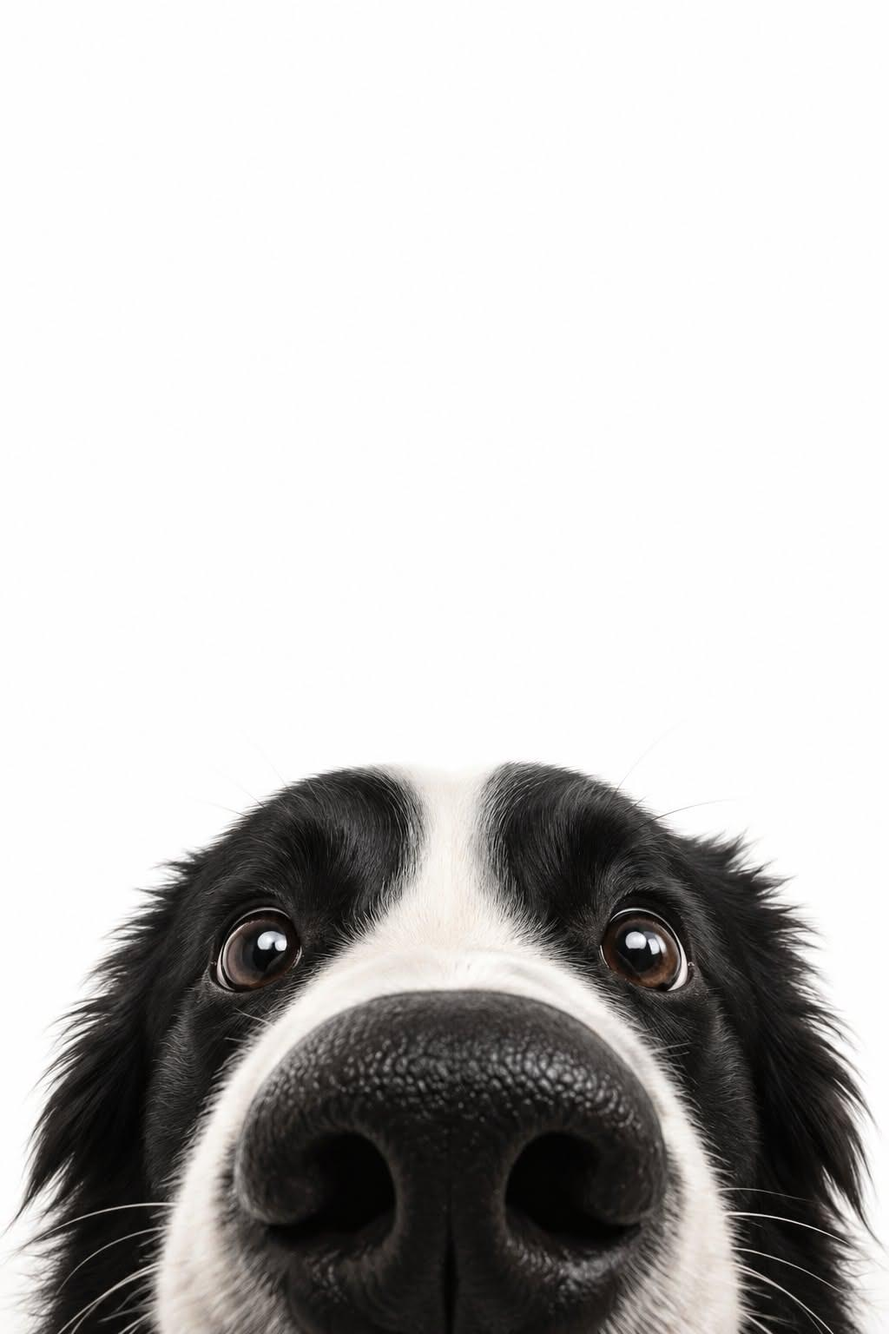adult_dog: (6, 756, 875, 1334)
